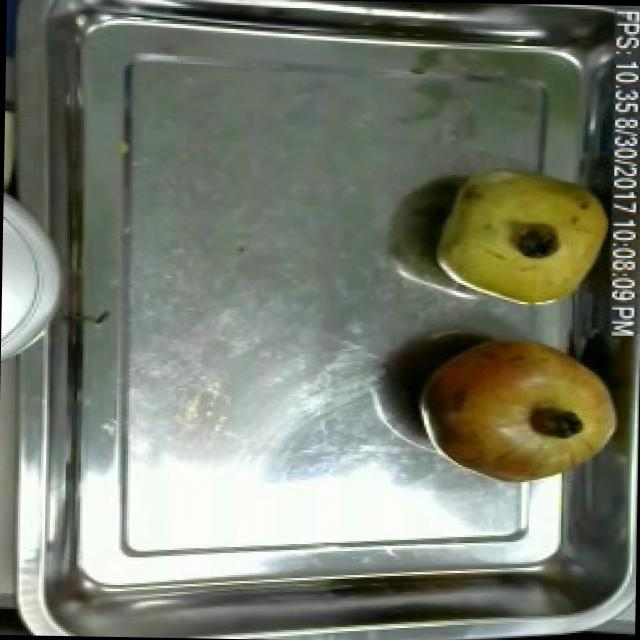fruit: (406, 334, 623, 489), (429, 162, 613, 313)
